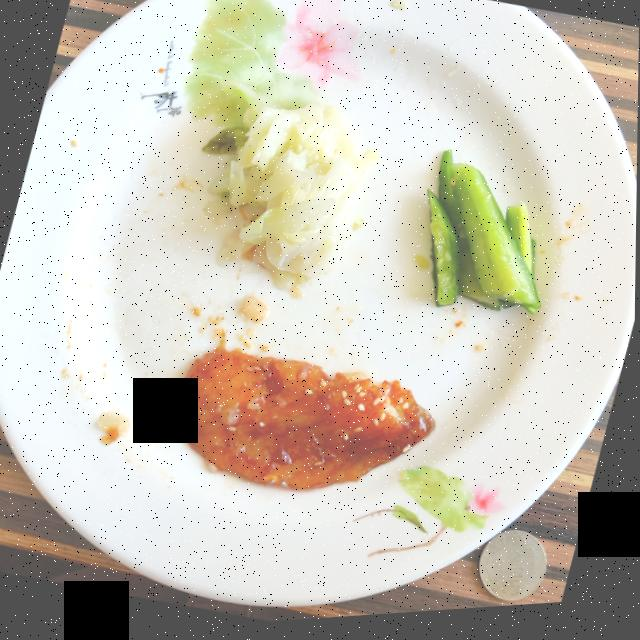Kabayaki sea bream fillet: (173, 352, 435, 494)
cabbage: (209, 107, 379, 292)
coin: (479, 537, 547, 608)
cucumber: (428, 156, 540, 321)
